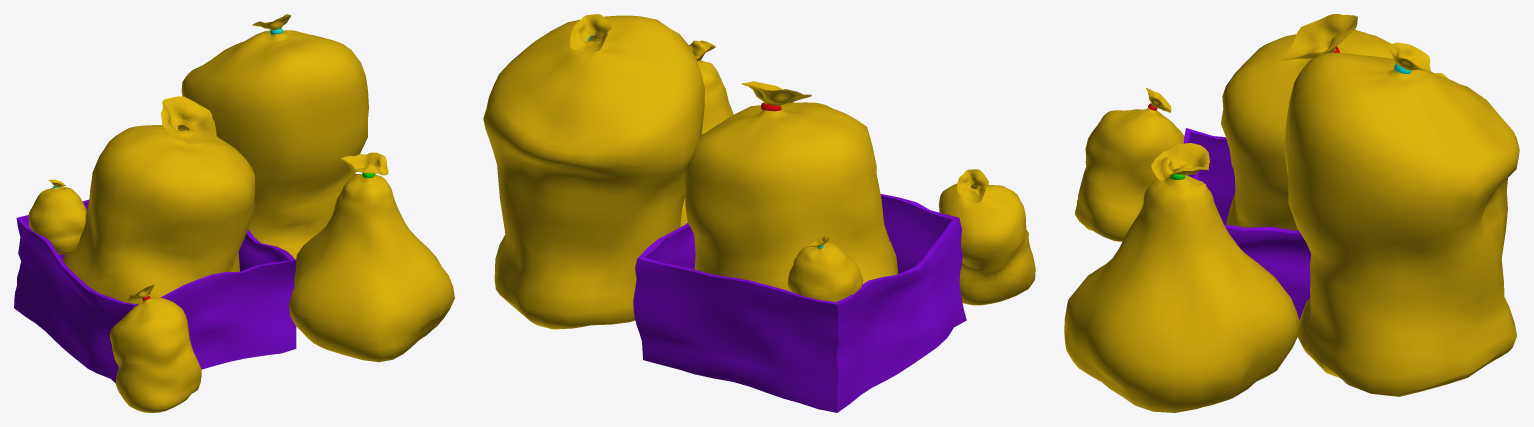
Rendered from SM_Garbage_01.fbx.
3 renders of one model, left to right at view 1: azimuth 30°, elevation 25°; view 2: azimuth 150°, elevation 25°; view 3: azimuth 270°, elevation 25°, orthographic. The views are drawn at different scales.
Visible parts, largest first — view 1: SM_Garbage_01_LOD0; view 2: SM_Garbage_01_LOD0; view 3: SM_Garbage_01_LOD0.
Part boxes in pixels (x1,y1,x2,y2): SM_Garbage_01_LOD0: [14, 14, 454, 412]; SM_Garbage_01_LOD0: [483, 14, 1035, 412]; SM_Garbage_01_LOD0: [1064, 14, 1519, 412].
Bounding box in the file's own units: 53.19 × 47.09 × 39.54.
